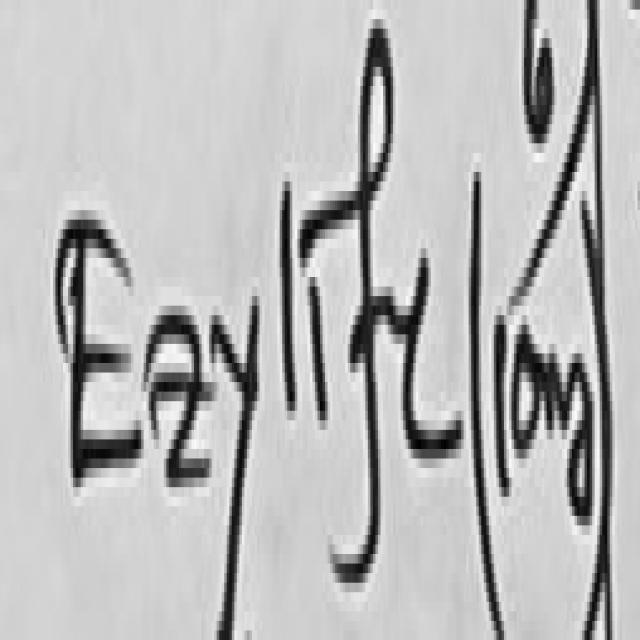0: (514, 325, 547, 444)
1: (499, 315, 511, 492)
E: (58, 220, 144, 482)
e: (406, 258, 462, 459)
f: (300, 19, 406, 578)
g: (569, 353, 595, 521)
i: (311, 277, 328, 416)
l: (280, 181, 297, 411)
m: (541, 345, 574, 446)
y: (212, 296, 260, 635)
z: (145, 315, 212, 482)
